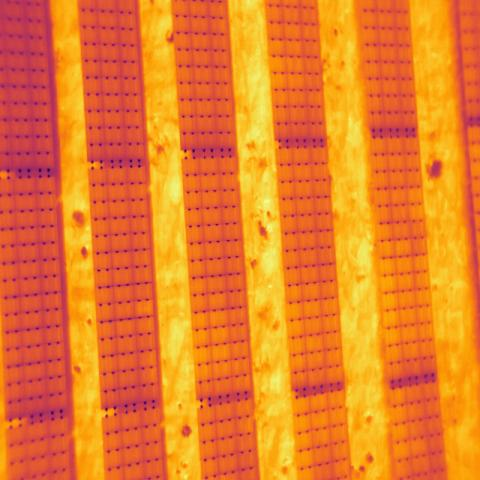fault: (134, 299, 155, 320)
